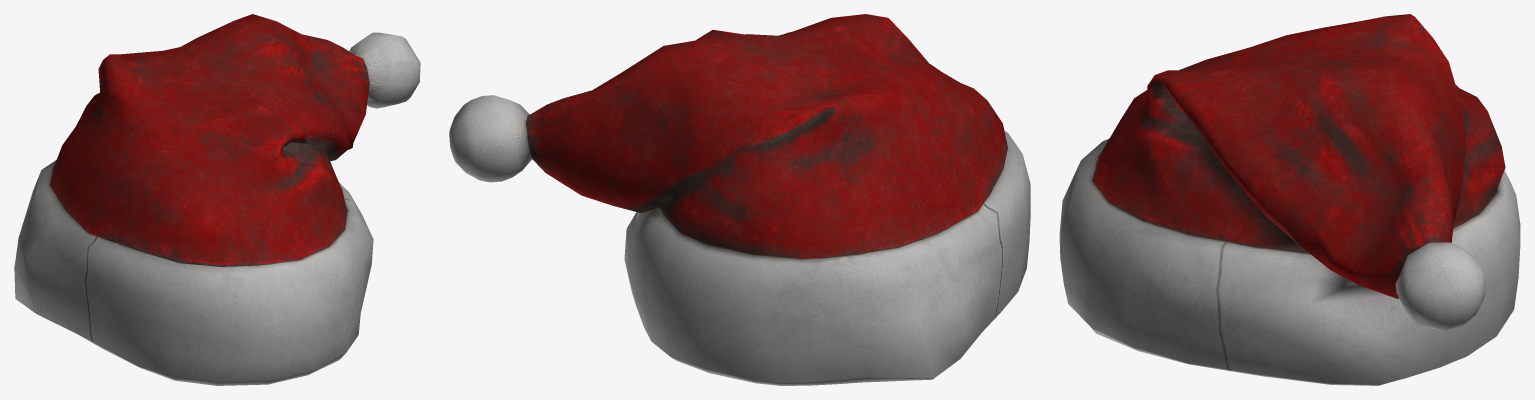
The model's file is christmas_hat.glb.
3 views of the same model, side by side, from view 1: azimuth 30°, elevation 25°; view 2: azimuth 150°, elevation 25°; view 3: azimuth 270°, elevation 25° (orthographic). The views are drawn at different scales.
Parts seen in each view (by area): view 1: Object_2; view 2: Object_2; view 3: Object_2.
Part boxes in pixels (<box>): Object_2: <box>14,14,420,385</box>; Object_2: <box>449,14,1030,385</box>; Object_2: <box>1059,14,1520,385</box>.
Size of the model in its own units: 0.3043 by 0.1681 by 0.2488.
1 material, 1 textured.
